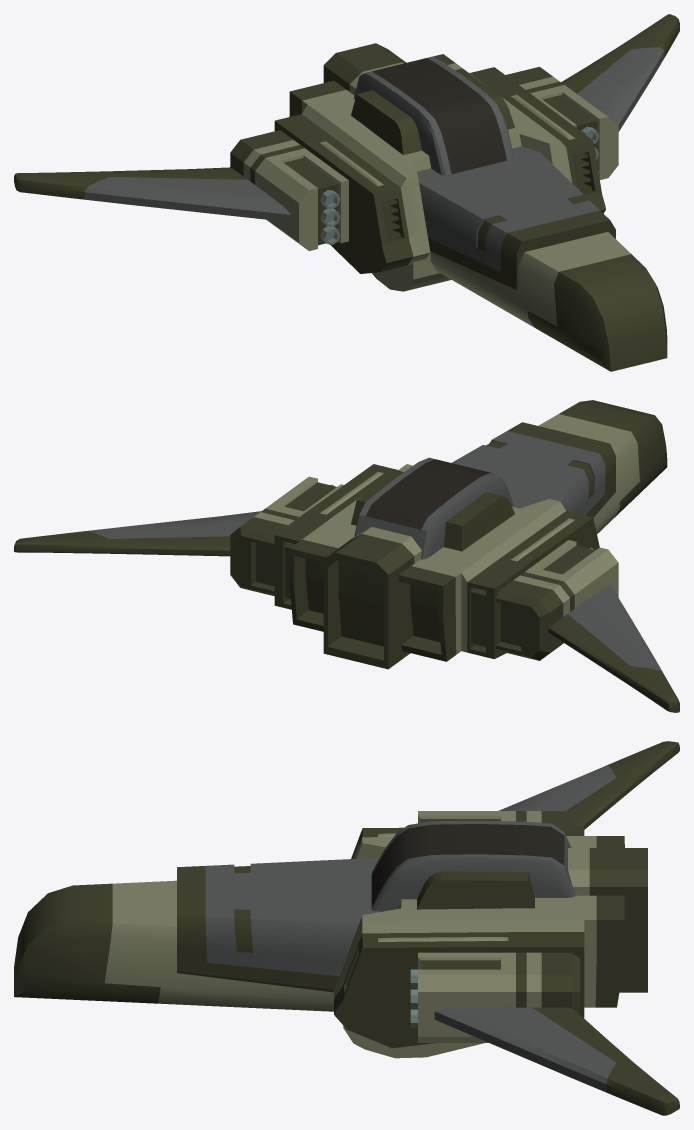
The model's file is quaternius-ultimate-space-pack-spaceship-fernando-the-flamingo-transformed.glb.
3 renders of one model, top to bottom at view 1: azimuth 30°, elevation 25°; view 2: azimuth 150°, elevation 25°; view 3: azimuth 270°, elevation 25°, orthographic. The views are drawn at different scales.
Visible parts, largest first — view 1: Spaceship_FernandoTheFlamingo; view 2: Spaceship_FernandoTheFlamingo; view 3: Spaceship_FernandoTheFlamingo.
Boxes of the visible parts, <box> form: Spaceship_FernandoTheFlamingo: <box>14,14,679,371</box>; Spaceship_FernandoTheFlamingo: <box>14,400,679,712</box>; Spaceship_FernandoTheFlamingo: <box>14,741,679,1115</box>.
Size of the model in its own units: 11.14 by 2.53 by 8.66.
1 material, 1 textured.
